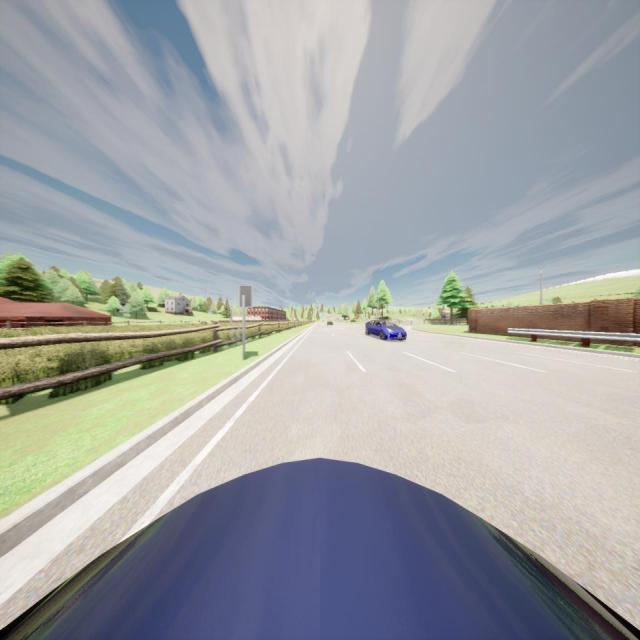Traffic_Signs: (240, 286, 252, 306)
Vehicle: (1, 456, 640, 640), (365, 320, 407, 342), (327, 320, 333, 326)
